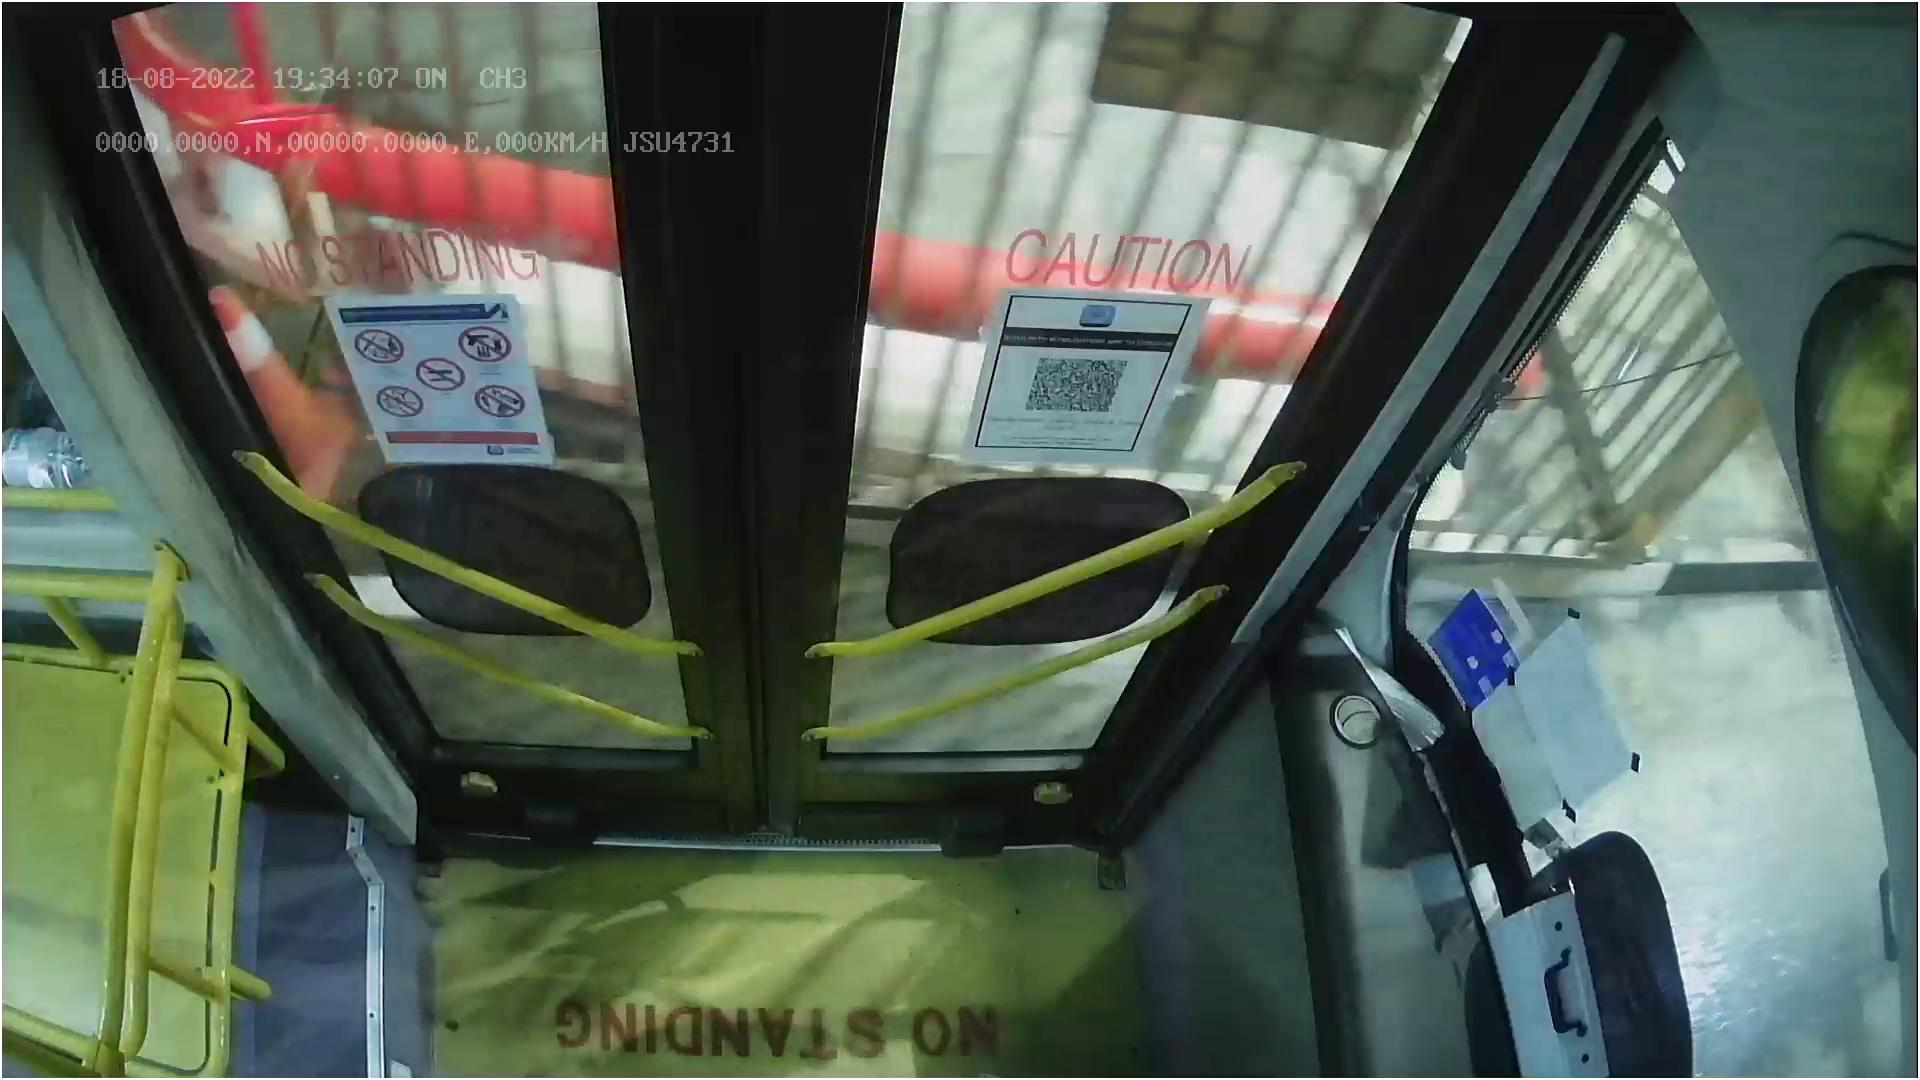close: (131, 0, 1448, 160)
